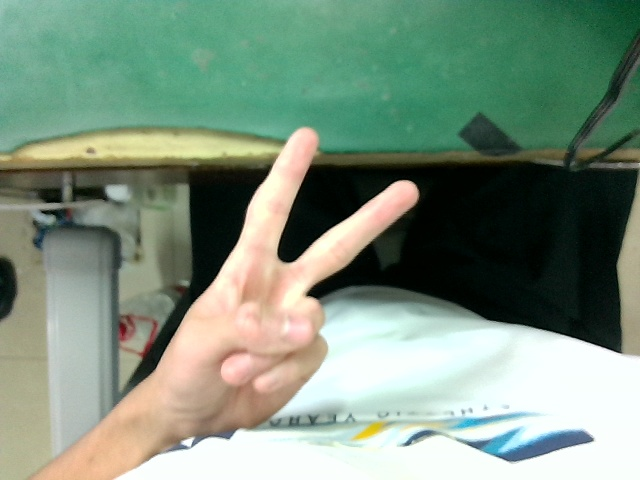scissor: (160, 111, 430, 456)
